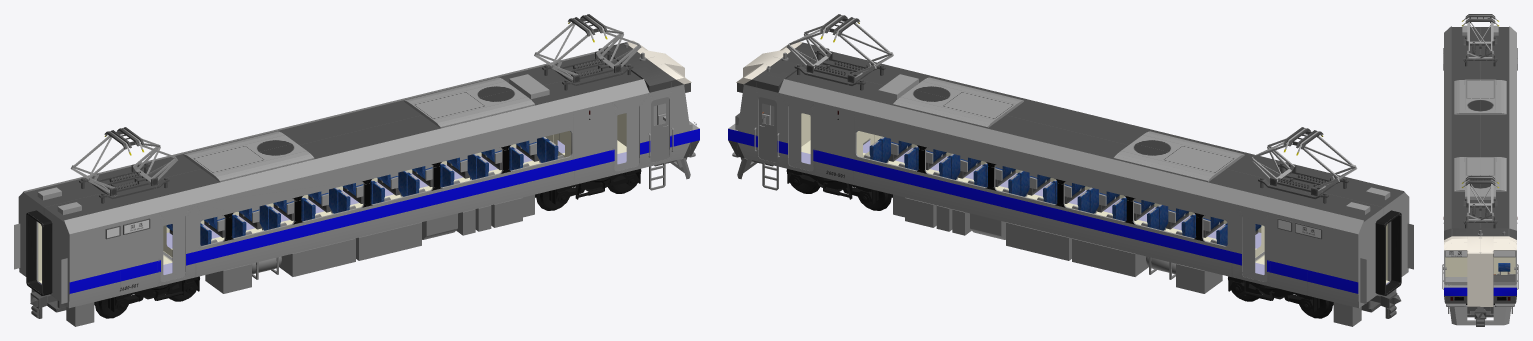
The picture shows the model from 3 angles, left to right: view 1: azimuth 30°, elevation 25°; view 2: azimuth 150°, elevation 25°; view 3: azimuth 270°, elevation 25°; orthographic projection. The views are drawn at different scales.
Parts seen in each view (by area): view 1: Body0_outer, AirCon, UF_equip, Seat, horo_UA, door.R, Floor, panto_0_front, panto_0_back, door_UA, frame_out, frame_out.001 (+7 smaller); view 2: Body0_outer, AirCon, UF_equip, Seat, horo_UA, door.L, Floor, panto_0_front, panto_0_back, door_UA, frame_out, frame_out.001 (+7 smaller); view 3: Body0_outer, AirCon, Skirt, OF_equip.off, C_door.R, C_door.L, Sept, panto_0_back, panto_0_front, Coupler, con_base, panto_3_back (+8 smaller).
Part boxes in pixels (left/top/right/bottom): Body0_outer: left=18, top=40, right=699, bottom=308; AirCon: left=37, top=74, right=549, bottom=214; UF_equip: left=31, top=163, right=665, bottom=326; Seat: left=166, top=137, right=564, bottom=245; horo_UA: left=14, top=210, right=67, bottom=303; door.R: left=160, top=104, right=639, bottom=281; Floor: left=38, top=140, right=626, bottom=284; panto_0_front: left=542, top=49, right=633, bottom=90; panto_0_back: left=79, top=162, right=169, bottom=203; door_UA: left=650, top=97, right=669, bottom=162; frame_out: left=549, top=169, right=640, bottom=204; frame_out.001: left=108, top=276, right=199, bottom=311; Body0_outer: left=728, top=40, right=1409, bottom=308; AirCon: left=878, top=74, right=1390, bottom=214; UF_equip: left=762, top=163, right=1396, bottom=326; Seat: left=863, top=137, right=1261, bottom=245; horo_UA: left=1360, top=210, right=1413, bottom=303; door.L: left=788, top=104, right=1267, bottom=281; Floor: left=801, top=140, right=1389, bottom=284; panto_0_front: left=794, top=49, right=885, bottom=90; panto_0_back: left=1258, top=162, right=1348, bottom=203; door_UA: left=758, top=97, right=777, bottom=162; frame_out: left=787, top=169, right=878, bottom=204; frame_out.001: left=1228, top=276, right=1319, bottom=311; Body0_outer: left=1444, top=26, right=1516, bottom=303; AirCon: left=1454, top=25, right=1506, bottom=199; Skirt: left=1446, top=303, right=1514, bottom=325; OF_equip.off: left=1442, top=48, right=1518, bottom=301; C_door.R: left=1480, top=252, right=1493, bottom=306; C_door.L: left=1467, top=252, right=1480, bottom=306; Sept: left=1445, top=257, right=1515, bottom=276; panto_0_back: left=1463, top=36, right=1497, bottom=66; panto_0_front: left=1463, top=198, right=1497, bottom=228; Coupler: left=1467, top=307, right=1493, bottom=326; con_base: left=1493, top=263, right=1515, bottom=281; panto_3_back: left=1462, top=14, right=1498, bottom=26.
Bounding box in the file's own units: 21 × 5.19 × 2.94.
Materials: 14 (10 with a texture image).
